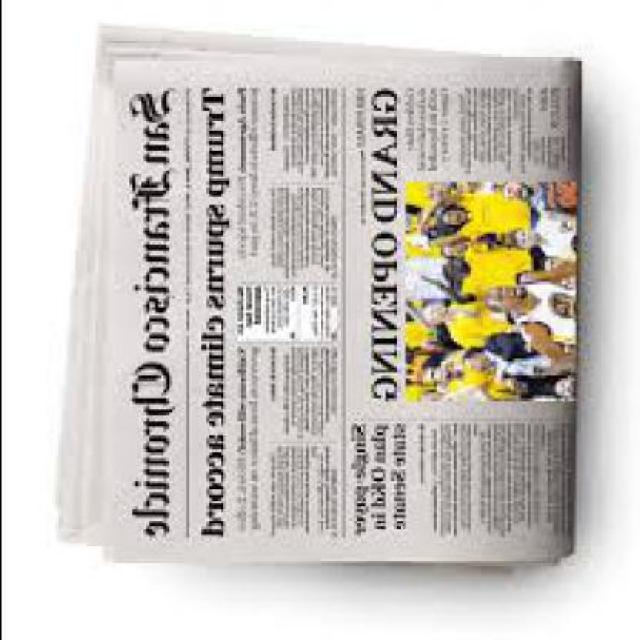PAPER: (58, 26, 580, 569)
